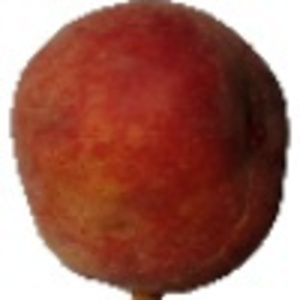pêssego: (9, 1, 290, 300)
